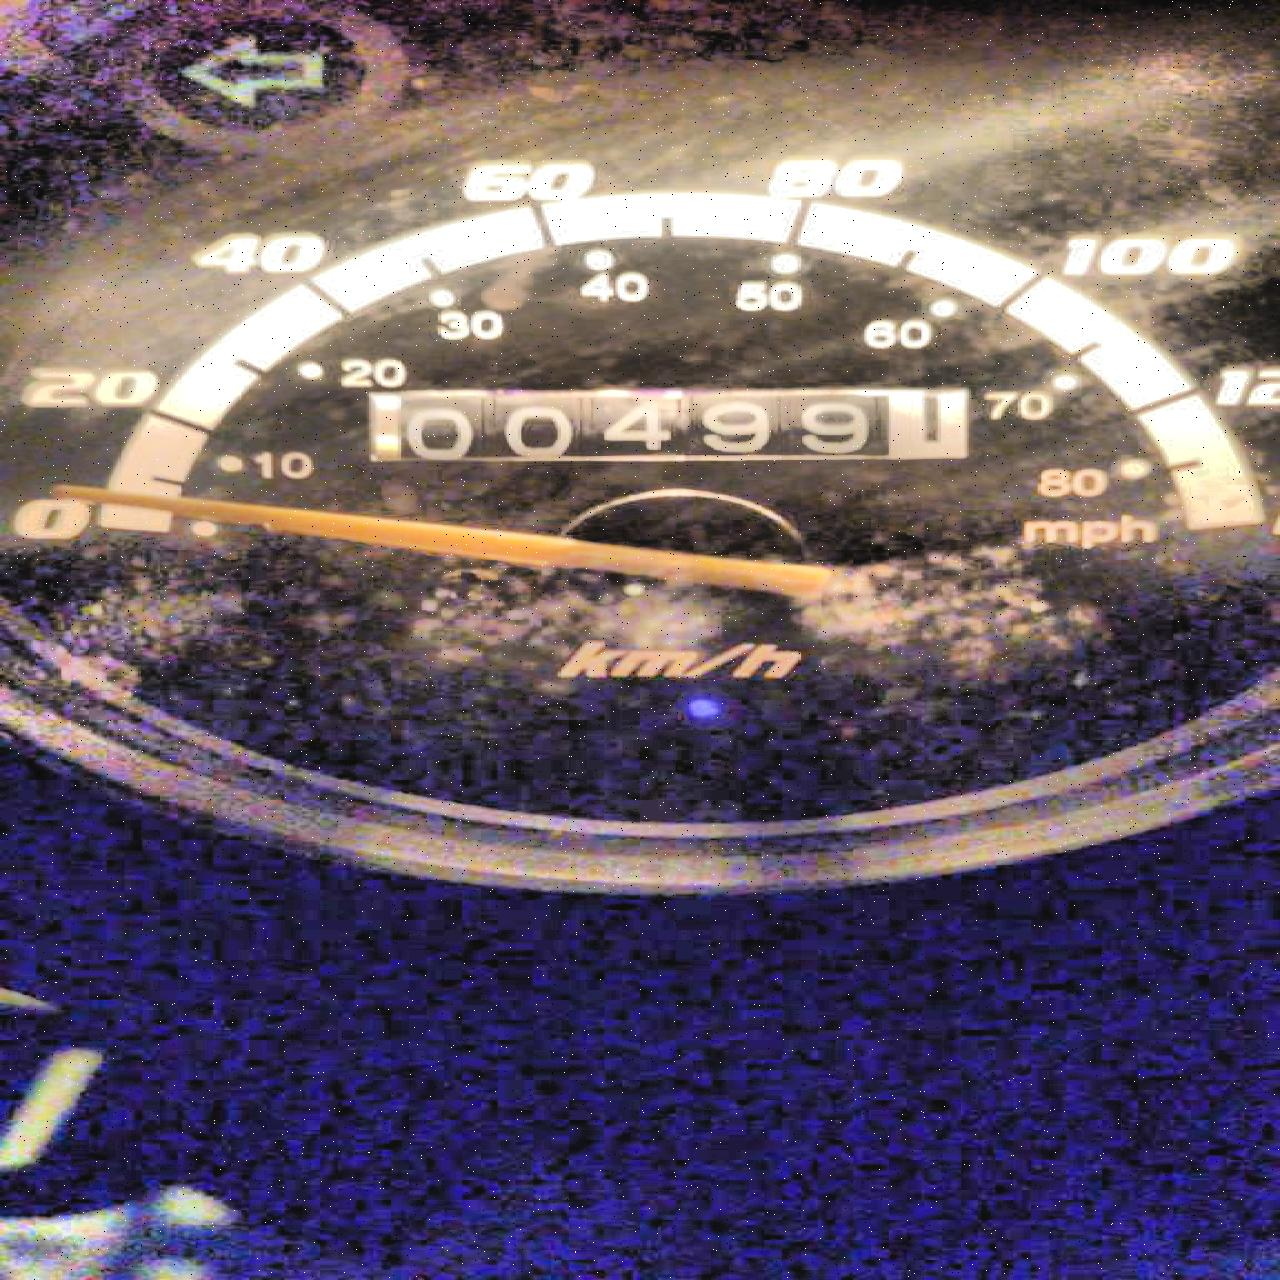0: (402, 408, 474, 461), (501, 406, 568, 456)
1: (918, 392, 940, 443)
4: (600, 400, 669, 449)
9: (797, 400, 866, 452), (697, 402, 769, 452)
odometer: (358, 384, 975, 465)
